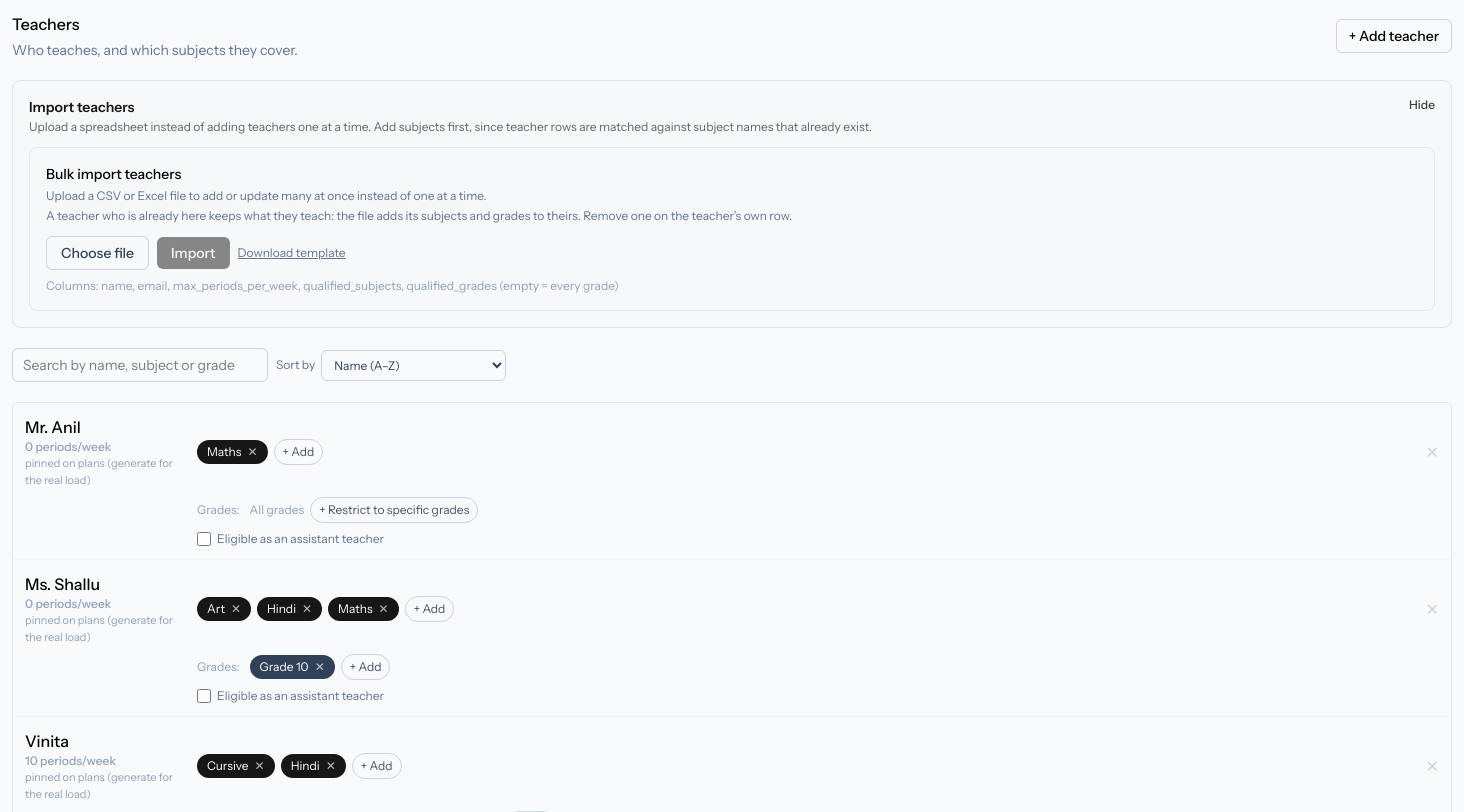
Test case: the Teachers list › says when nobody matches
In the search field named "Search teachers": coordinates (140, 365) [12,348,268,382], type "zzz"
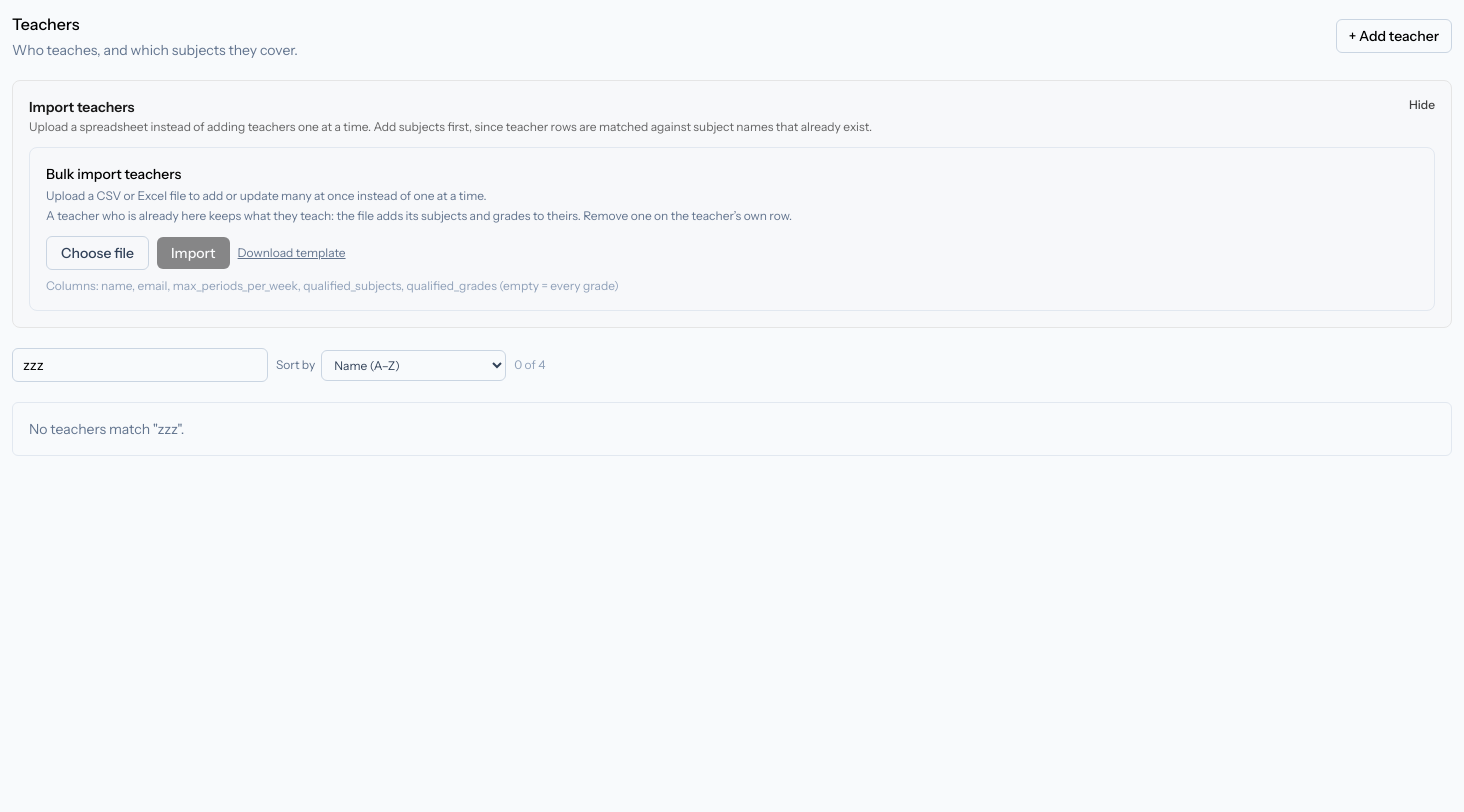
Check: the text "No teachers match \"zzz\"." is shown, box [29,420,184,438]
